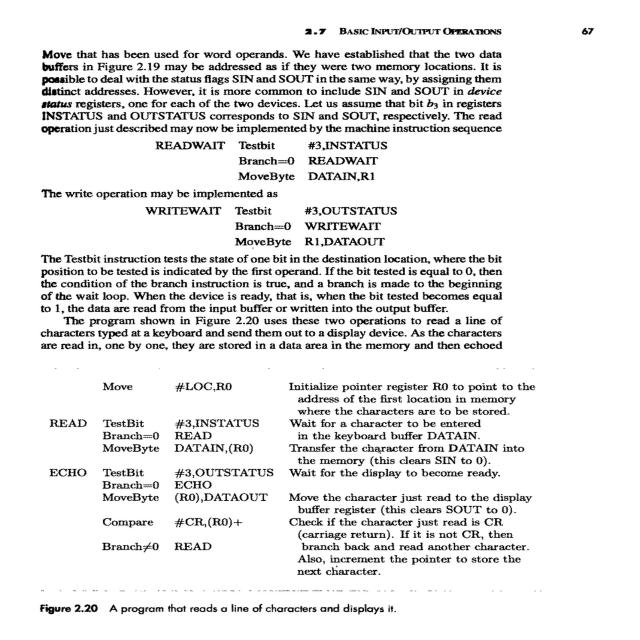diagram: (4, 370, 620, 628)
